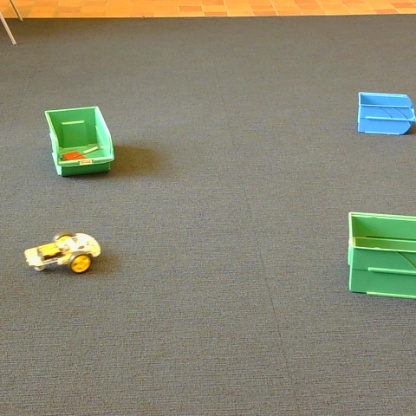robot: (25, 232, 100, 273)
